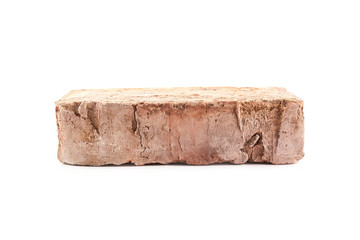brick: (57, 100, 305, 163)
